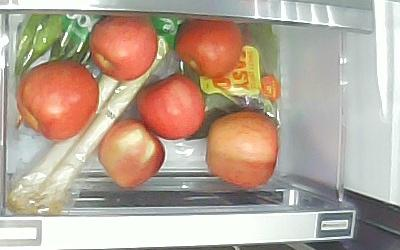apple: (16, 59, 100, 140), (205, 110, 279, 190), (98, 119, 167, 188), (89, 14, 159, 81), (137, 73, 206, 139), (176, 20, 242, 77)
